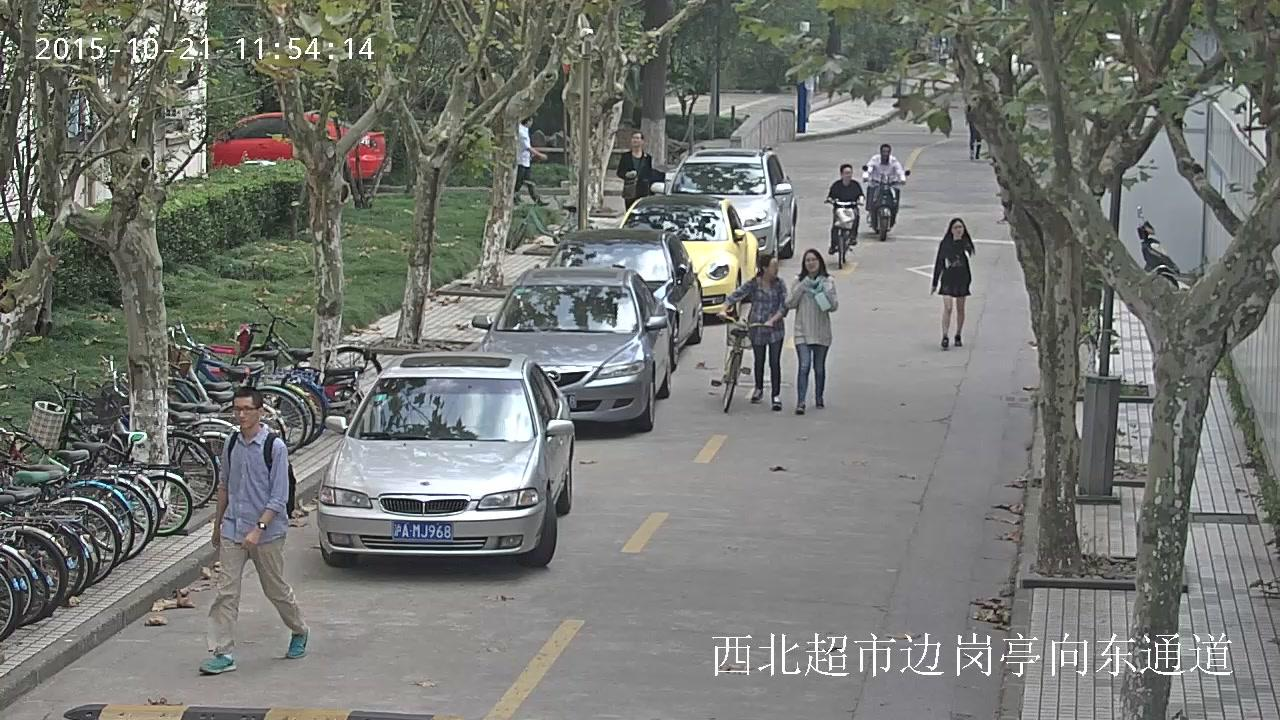face: (234, 396, 255, 428), (804, 252, 819, 273), (767, 257, 778, 277), (951, 220, 964, 236), (842, 168, 852, 180), (631, 133, 640, 145), (882, 146, 889, 158), (527, 119, 532, 128)
